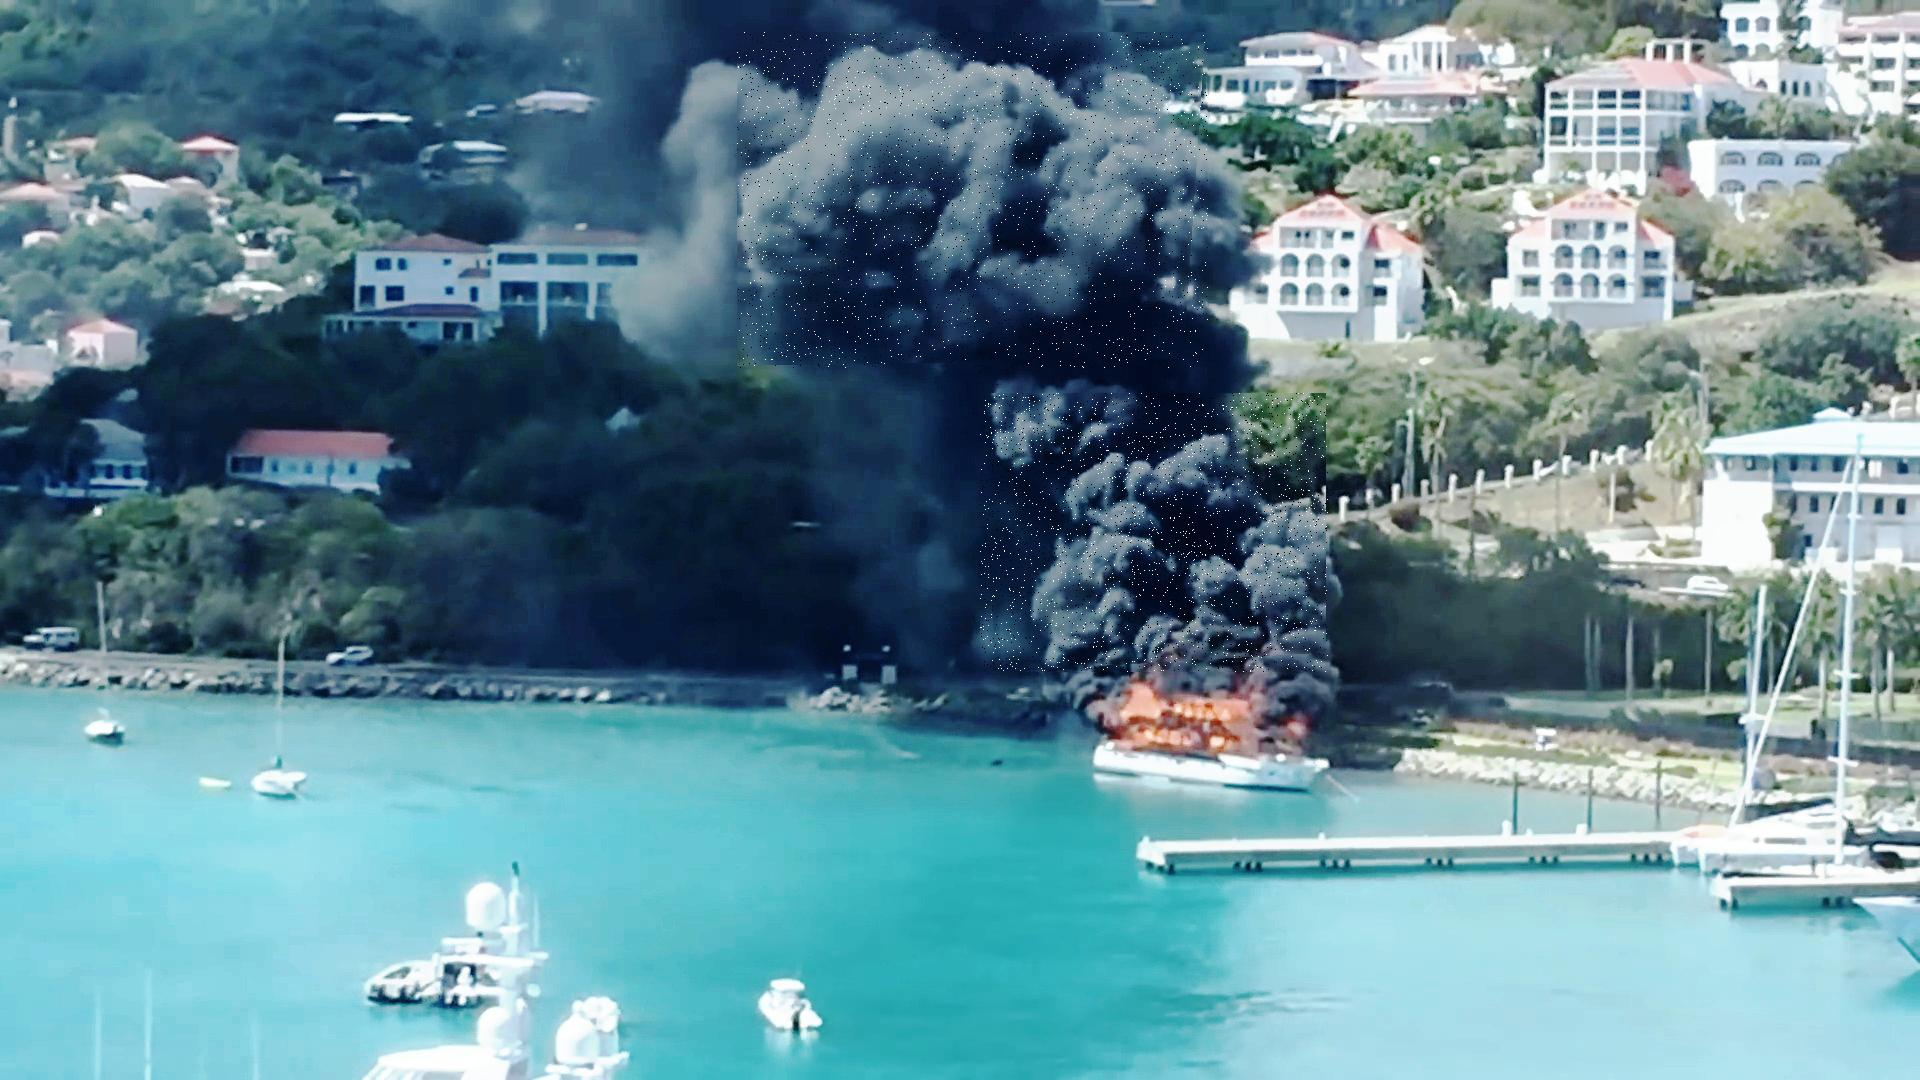smoke: (738, 33, 1209, 369), (981, 393, 1329, 673)
